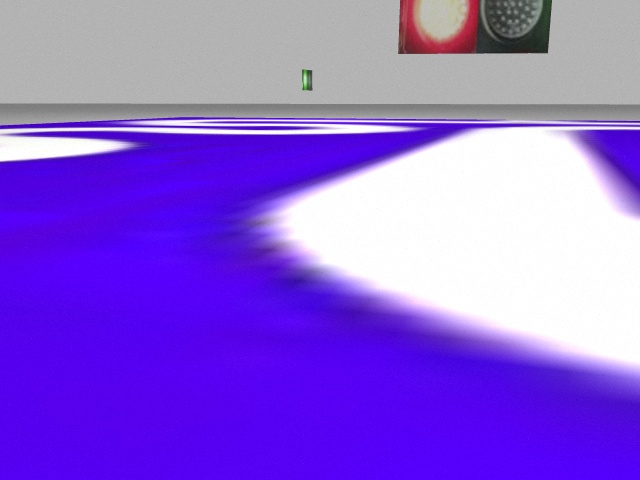red: (400, 2, 477, 54)
